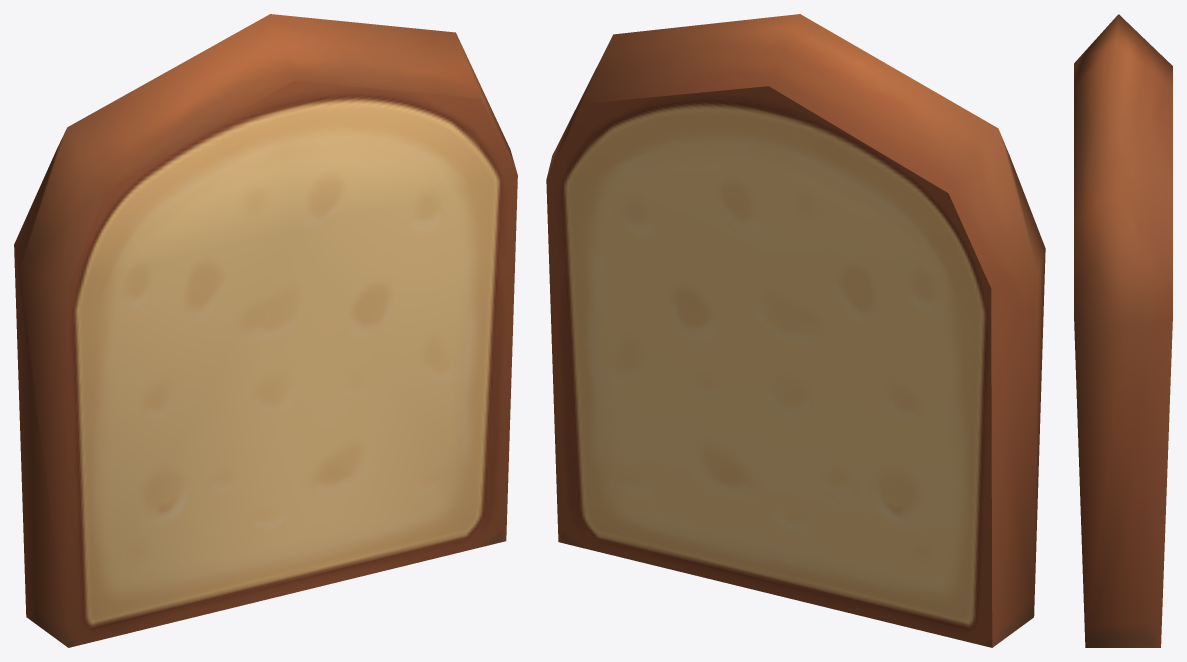
Rendered from slice of  bread.FBX.
3 views of the same model, side by side, from view 1: azimuth 30°, elevation 25°; view 2: azimuth 150°, elevation 25°; view 3: azimuth 270°, elevation 25° (orthographic). The views are drawn at different scales.
Visible parts, largest first — view 1: slice of bread; view 2: slice of bread; view 3: slice of bread.
Part boxes in pixels (x1,y1,x2,y2): slice of bread: (14,14,517,647); slice of bread: (546,14,1045,647); slice of bread: (1074,14,1172,647).
Bounding box in the file's own units: 4.36 × 4.83 × 0.8498.
